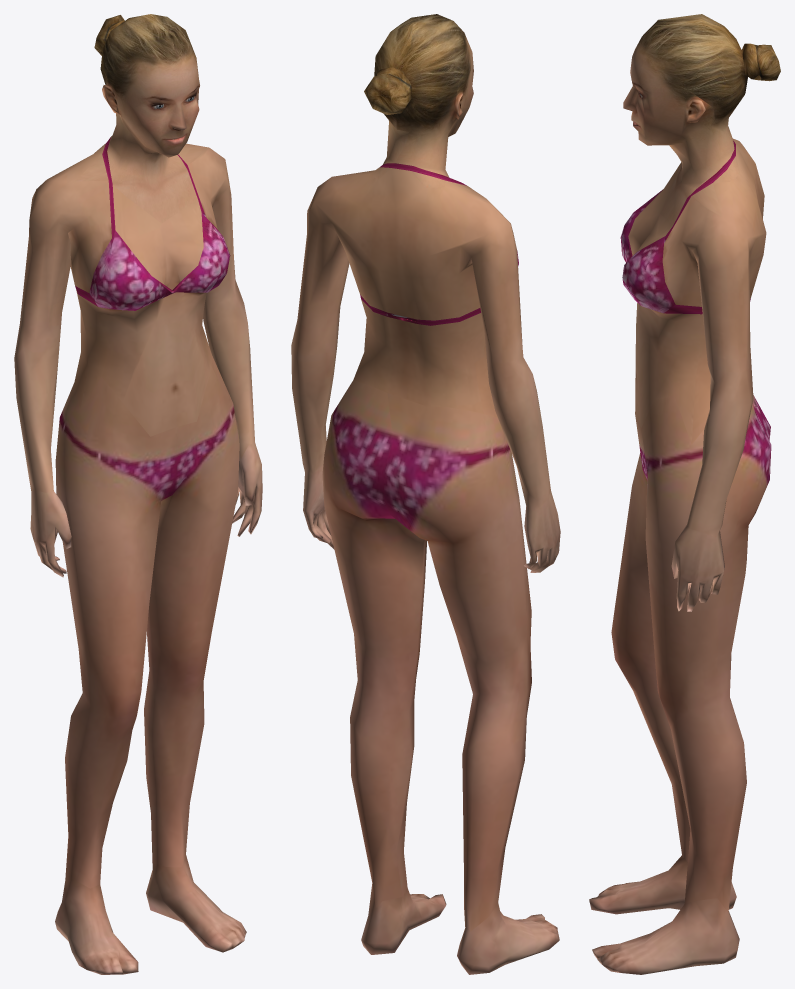
The model's file is Sports_Female_01_idle.glb.
3 views of the same model, side by side, from view 1: azimuth 30°, elevation 25°; view 2: azimuth 150°, elevation 25°; view 3: azimuth 270°, elevation 25° (orthographic). The views are drawn at different scales.
Parts seen in each view (by area): view 1: f021_hipoly_81_bones_b; view 2: f021_hipoly_81_bones_b; view 3: f021_hipoly_81_bones_b.
Part boxes in pixels (x1=…): f021_hipoly_81_bones_b: x1=14, y1=14, x2=262, y2=974; f021_hipoly_81_bones_b: x1=291, y1=14, x2=560, y2=974; f021_hipoly_81_bones_b: x1=589, y1=14, x2=780, y2=974.
Bounding box in the file's own units: 0.4652 × 1.73 × 0.3254.
2 materials, 2 textured.
